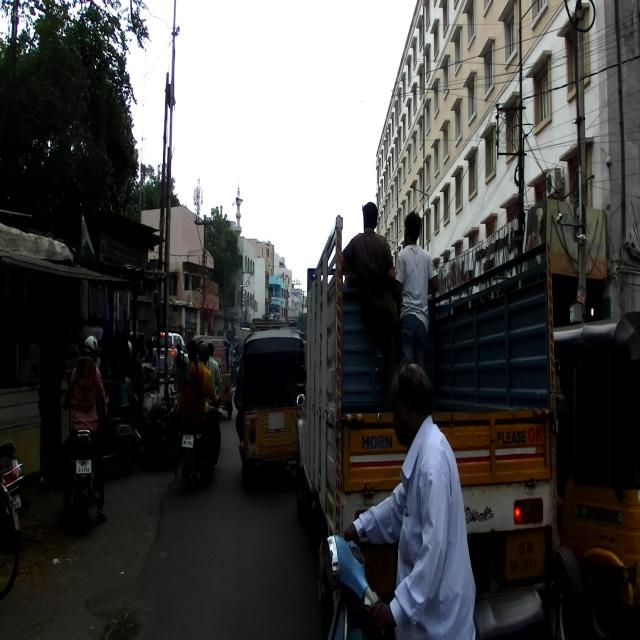autorickshaw: (554, 311, 640, 640), (233, 330, 305, 491)
motorcycle: (176, 391, 225, 486)
motorcycle_Hero: (62, 397, 114, 538)
scooter: (315, 532, 585, 640)
truck: (293, 214, 558, 638)
